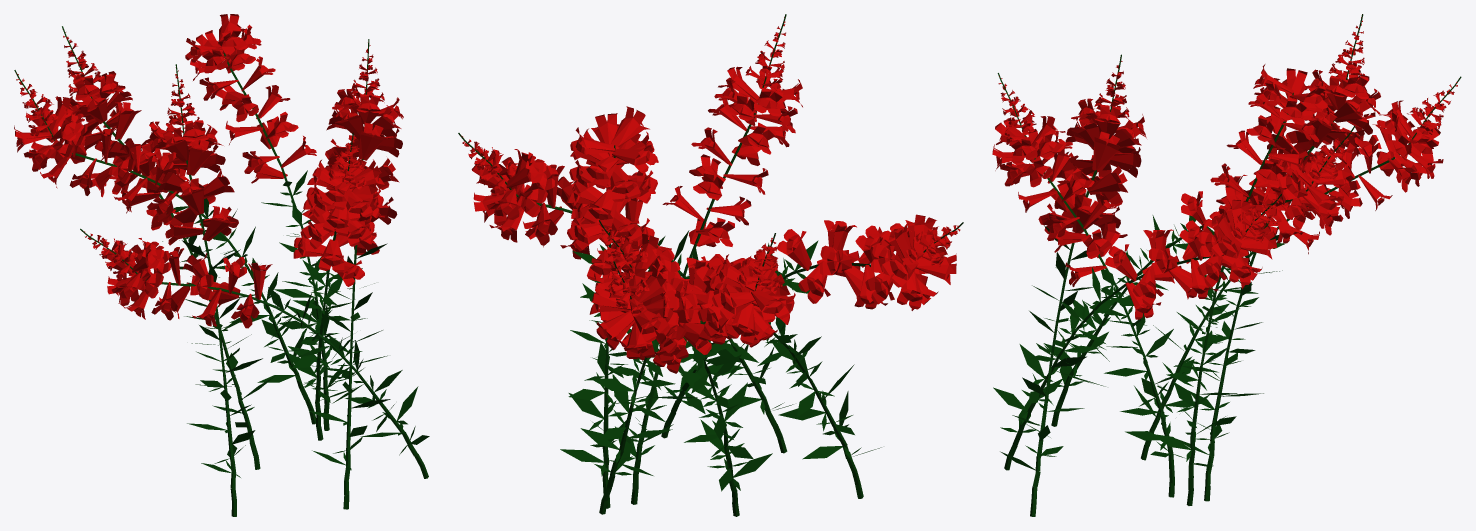
3 renders of one model, left to right at view 1: azimuth 30°, elevation 25°; view 2: azimuth 150°, elevation 25°; view 3: azimuth 270°, elevation 25°, orthographic. The views are drawn at different scales.
Parts seen in each view (by area): view 1: flowers2, flowers1, flowers3, leaves1, leaves2, stems1, stems2, flowers4, flowers5, flowers6, stems3; view 2: flowers1, flowers2, leaves1, flowers3, leaves2, stems1, flowers4, flowers5, flowers6, stems2; view 3: flowers2, flowers1, leaves1, flowers3, leaves2, stems1, stems2, flowers4, flowers5, flowers6, stems3.
Boxes of the visible parts, box(x1,y1,x2,y2) form: flowers2: box(16, 26, 403, 328); flowers1: box(14, 14, 399, 319); flowers3: box(17, 24, 399, 321); leaves1: box(187, 272, 429, 477); leaves2: box(162, 170, 387, 378); stems1: box(221, 297, 428, 516); stems2: box(50, 50, 364, 373); flowers4: box(16, 36, 383, 273); flowers5: box(16, 32, 384, 280); flowers6: box(16, 37, 384, 278); stems3: box(14, 26, 369, 269); flowers1: box(471, 66, 956, 362); flowers2: box(476, 82, 950, 373); leaves1: box(560, 320, 881, 491); flowers3: box(479, 79, 951, 364); leaves2: box(570, 224, 821, 408); stems1: box(599, 336, 863, 516); flowers4: box(462, 17, 960, 309); flowers5: box(463, 22, 959, 316); flowers6: box(462, 21, 957, 313); stems2: box(509, 104, 870, 402); flowers2: box(995, 78, 1434, 319); flowers1: box(992, 64, 1443, 307); leaves1: box(993, 293, 1263, 470); flowers3: box(996, 75, 1435, 313); leaves2: box(1029, 215, 1290, 359); stems1: box(1004, 309, 1228, 516); stems2: box(1034, 92, 1413, 367); flowers4: box(999, 17, 1457, 237); flowers5: box(999, 21, 1456, 242); flowers6: box(998, 21, 1457, 240); stems3: box(997, 14, 1461, 232).
Bounding box in the file's own units: 59.34 × 59.13 × 61.4.
